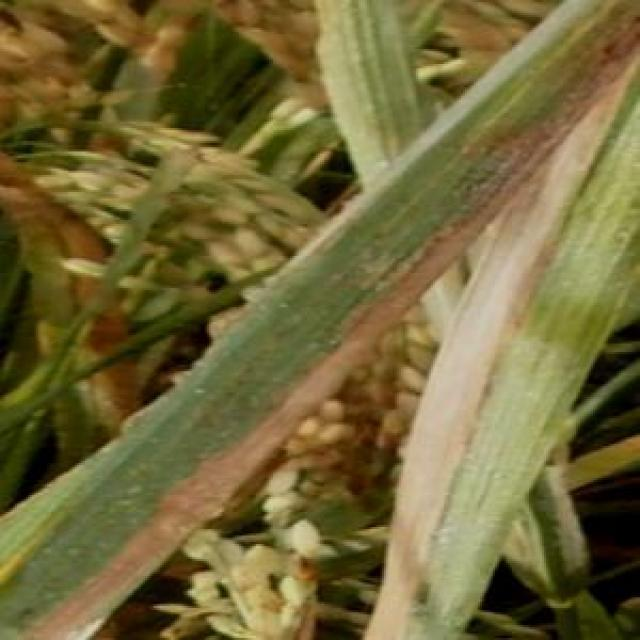Rice_Bacterial_Blight: (0, 352, 243, 638), (476, 132, 614, 486)
